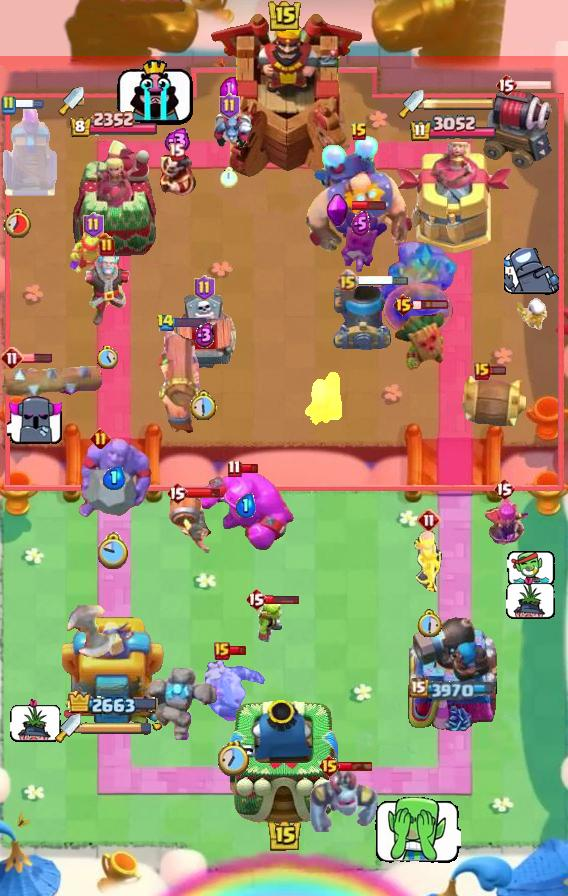archer: (414, 530, 444, 594)
archer-evolution: (480, 491, 528, 553)
axe: (54, 605, 120, 657)
bar: (356, 274, 410, 287), (9, 98, 46, 111), (413, 299, 450, 311), (515, 79, 552, 91), (338, 760, 374, 772), (185, 487, 221, 499), (17, 352, 53, 364), (265, 593, 300, 605), (352, 199, 387, 211), (172, 317, 208, 328), (228, 645, 247, 656), (240, 463, 259, 474), (488, 365, 507, 376)
bar-level: (417, 508, 441, 532), (0, 346, 24, 370), (318, 754, 341, 778), (392, 293, 415, 317), (194, 275, 215, 301), (83, 212, 104, 238), (219, 93, 240, 119), (336, 269, 359, 292), (245, 587, 267, 611), (166, 481, 188, 505), (493, 477, 515, 501), (495, 73, 517, 97), (90, 428, 111, 449), (156, 313, 175, 332), (350, 122, 368, 142), (168, 142, 185, 161), (99, 237, 115, 257), (0, 95, 16, 115), (214, 642, 230, 660), (474, 362, 490, 380), (227, 459, 242, 478)
barbarian-barrel: (455, 375, 529, 427)
cannoneer-tower: (407, 611, 499, 731)
clock: (98, 532, 130, 569), (218, 741, 249, 776), (3, 207, 33, 238), (190, 390, 218, 421), (416, 609, 442, 638), (97, 346, 118, 369), (220, 167, 238, 188)
dagger-duchess-tower: (394, 142, 512, 256), (62, 611, 166, 731), (70, 138, 158, 256)
dagger-duchess-tower-bar: (81, 721, 153, 735), (424, 97, 496, 111)
dart-goblin: (331, 208, 389, 274), (393, 308, 449, 372)
electro-wizard: (155, 152, 197, 200)
elixir: (161, 128, 191, 153), (103, 466, 126, 490), (194, 322, 215, 348), (235, 493, 256, 518), (351, 211, 370, 236), (220, 77, 238, 102)
emote: (374, 794, 461, 864), (116, 55, 194, 126), (7, 395, 65, 447), (504, 248, 559, 296), (10, 697, 62, 743), (506, 575, 556, 620), (507, 549, 555, 587)
evolution-symbol: (324, 193, 350, 227)
firecracker: (302, 369, 344, 427)
goblin: (253, 598, 285, 646)
golemite: (145, 668, 221, 746)
ice-wizard: (66, 255, 148, 327)
king-tower: (205, 11, 363, 181), (230, 698, 338, 826)
mega-minion: (306, 764, 380, 832)
minion: (206, 110, 252, 150)
mortar: (333, 286, 393, 350)
royal-ghost: (201, 655, 265, 727)
skeleton: (517, 297, 547, 331)
spear-goblin: (69, 227, 117, 275)
the-log: (0, 361, 103, 399)
tower-bar: (69, 111, 159, 139), (409, 115, 498, 143), (68, 691, 160, 718), (410, 678, 497, 700)
wall-breaker: (168, 491, 218, 555)
